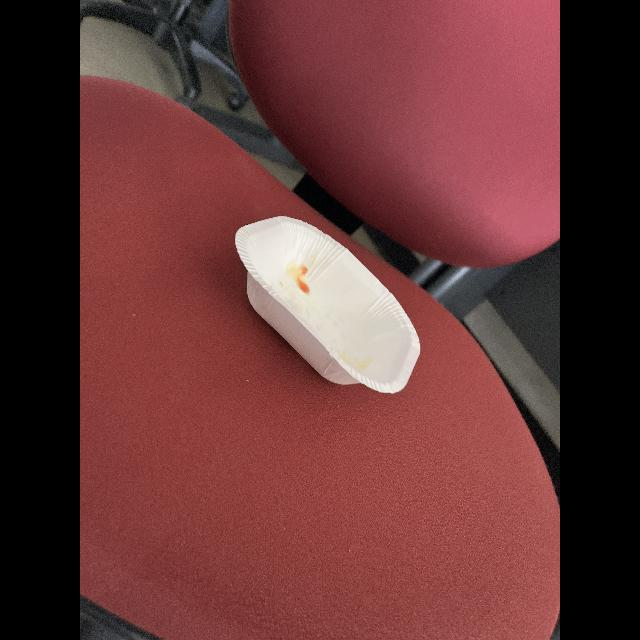cardboard_bowl: (214, 215, 433, 411)
